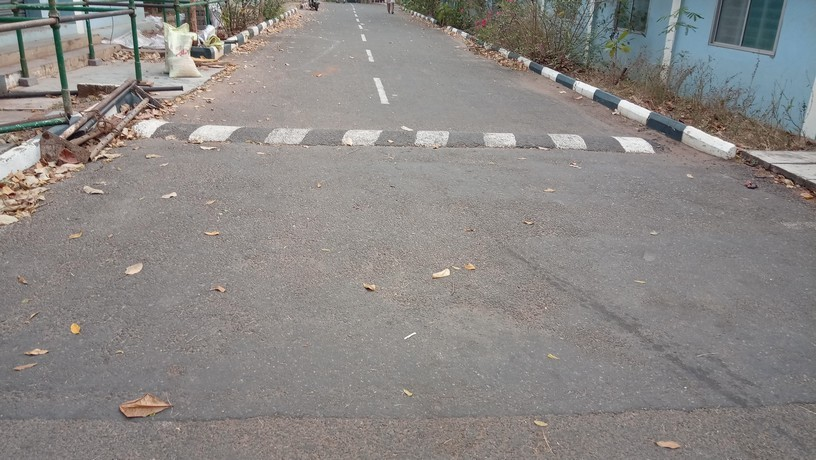bump: (124, 114, 668, 155)
